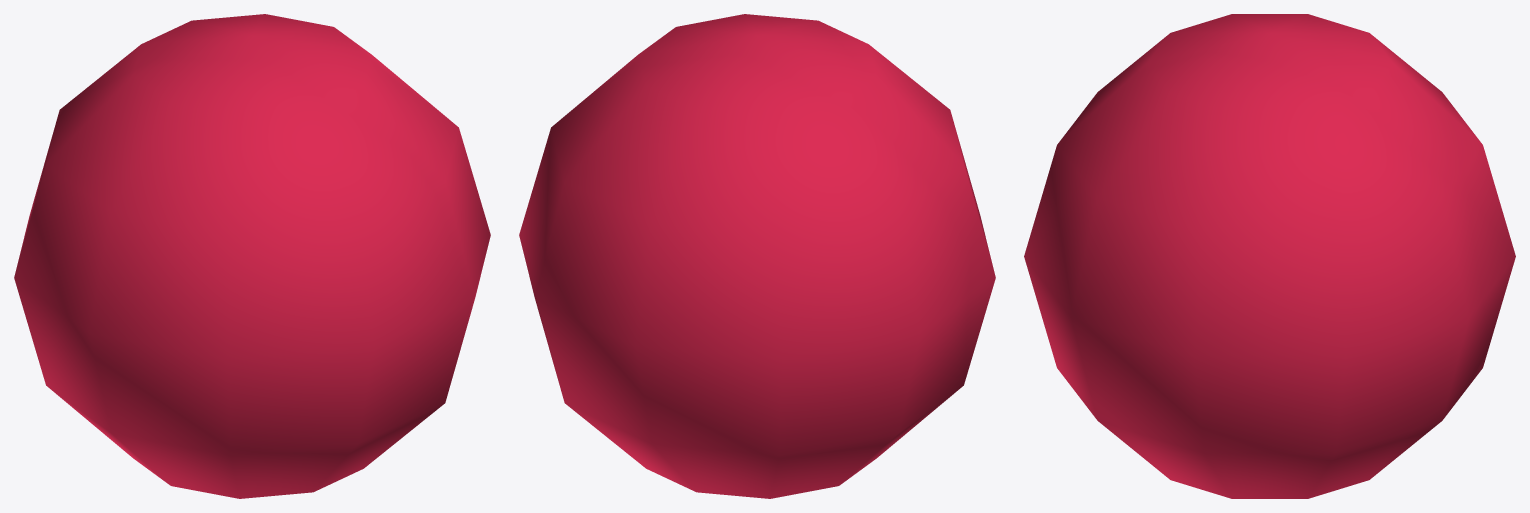
The model's file is Marble.fbx.
3 views of the same model, side by side, from view 1: azimuth 30°, elevation 25°; view 2: azimuth 150°, elevation 25°; view 3: azimuth 270°, elevation 25° (orthographic).
Parts seen in each view (by area): view 1: Marble; view 2: Marble; view 3: Marble.
Part boxes in pixels (box(x1,y1,x2,y2)): Marble: box(14, 14, 490, 498); Marble: box(519, 14, 995, 498); Marble: box(1024, 14, 1515, 498).
Bounding box in the file's own units: 190 × 200 × 200.
